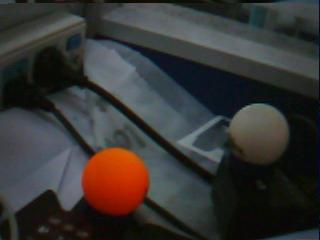oball: (81, 149, 148, 213)
